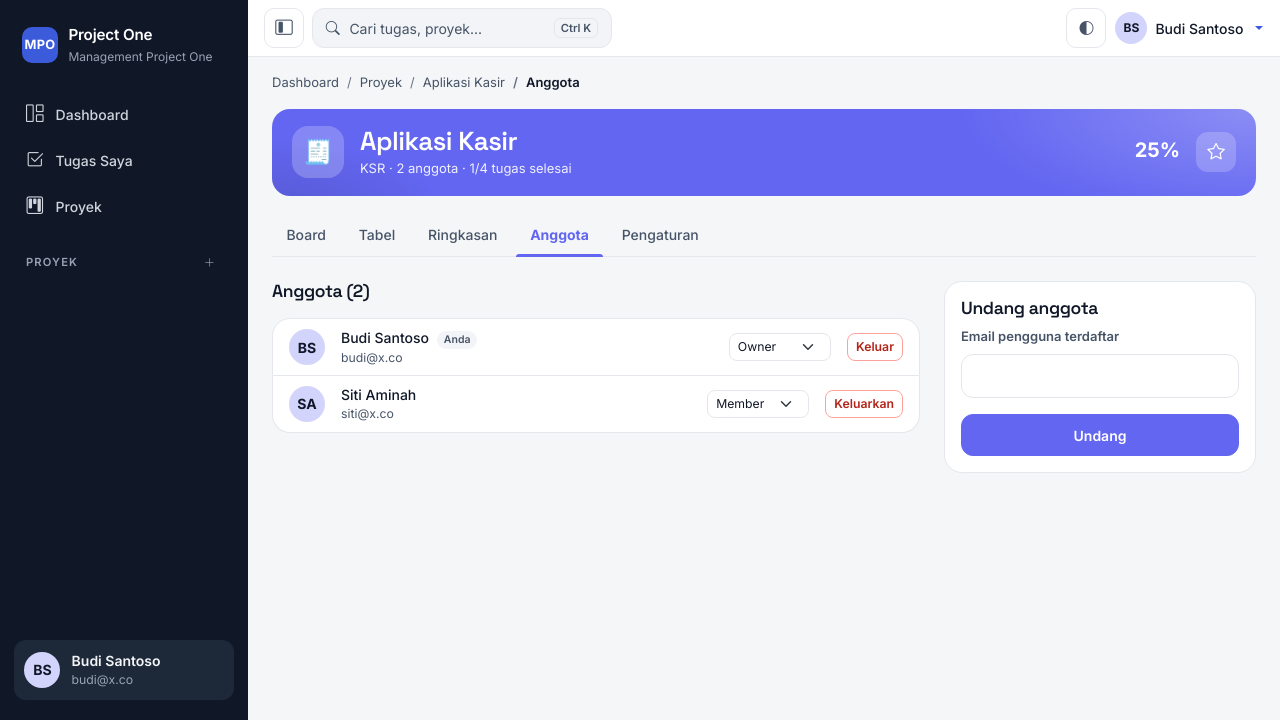
Scenario: anggota › saran pencarian pengguna muncul (min. 3 karakter) dan tidak menampilkan yang sudah anggota
The width and height of the screenshot is (1280, 720).
Type "si" into the field labelled "Email pengguna terdaftar" at (1100, 376), box x1=961 y1=354 x2=1239 y2=398
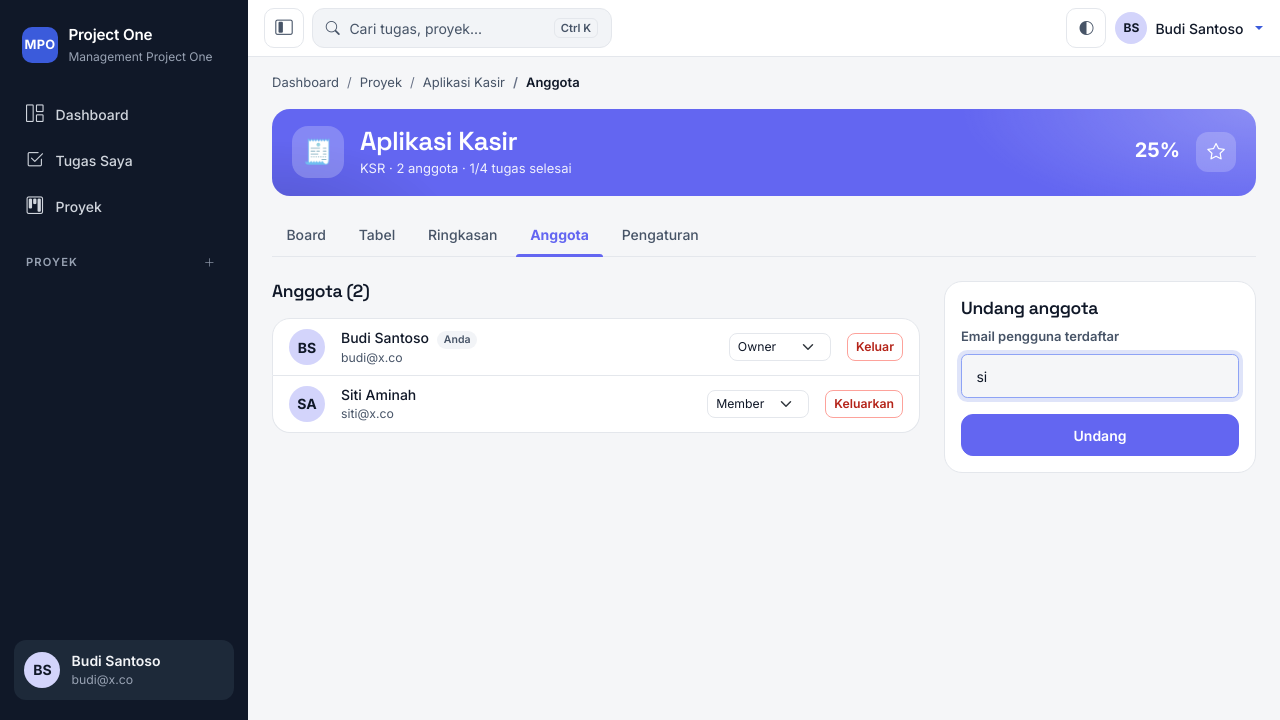
Type "n" into the field labelled "Email pengguna terdaftar" at (1100, 376), box x1=961 y1=354 x2=1239 y2=398
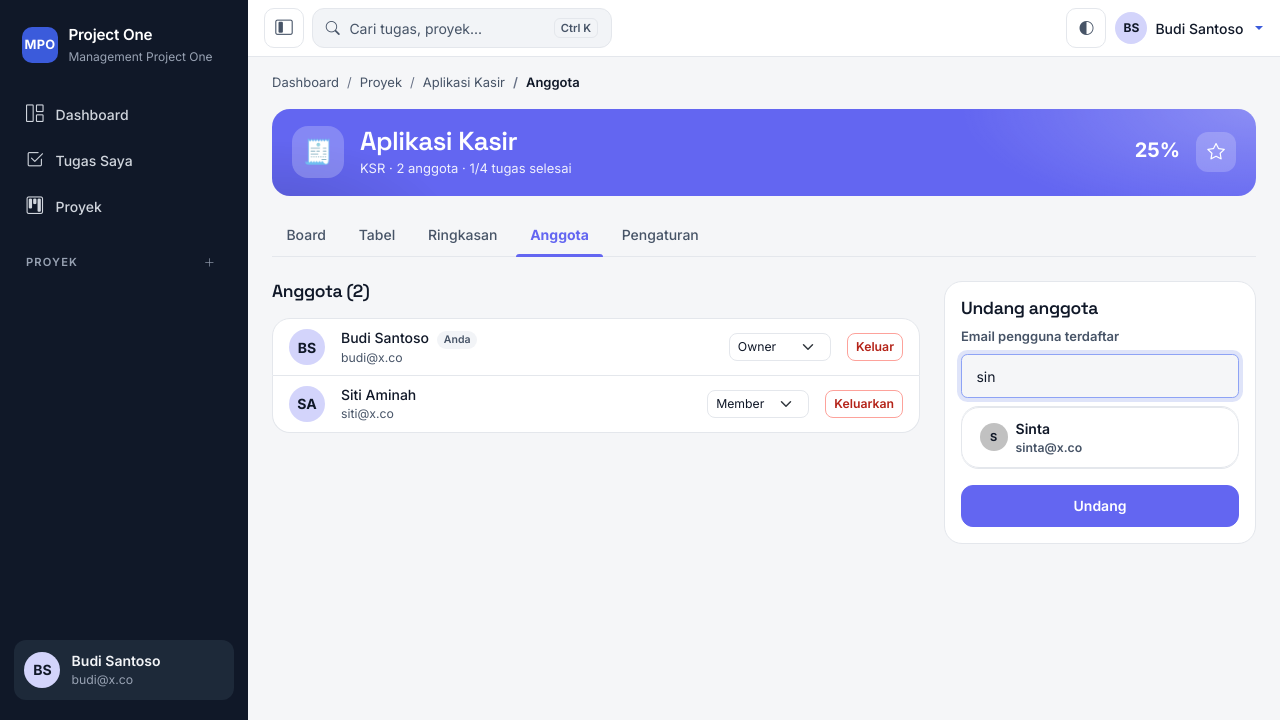
Now the text "Sinta" is shown, box x1=1016 y1=420 x2=1050 y2=437
